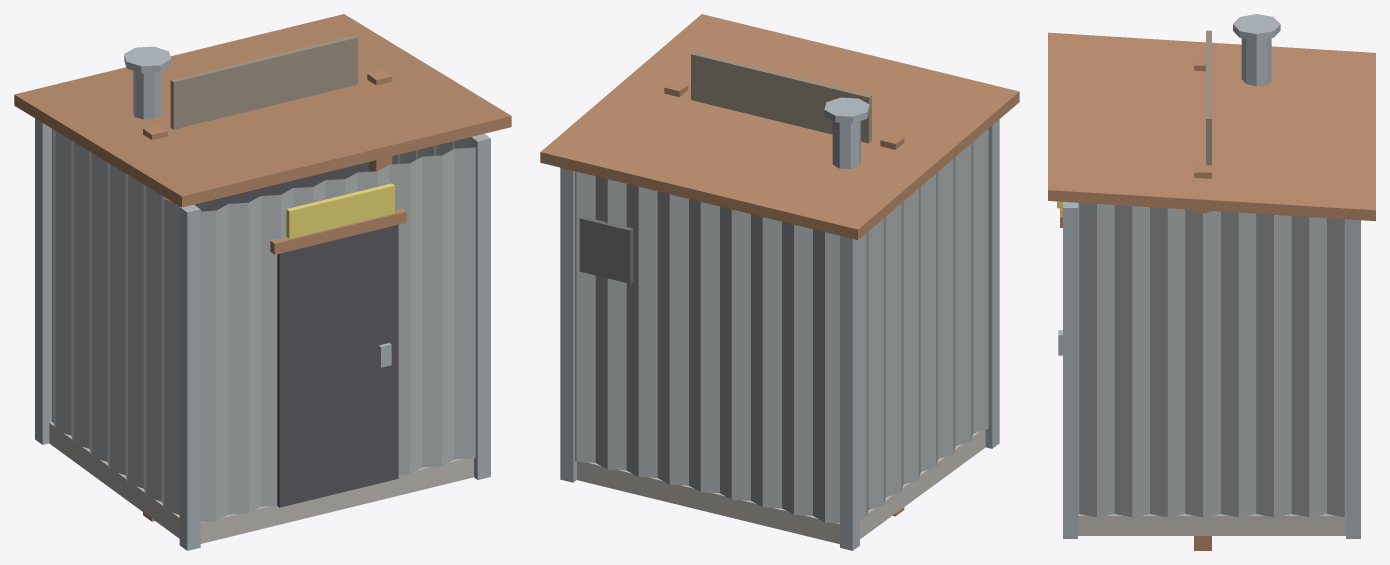
Rendered from gorge_dam.glb.
3 views of the same model, side by side, from view 1: azimuth 30°, elevation 25°; view 2: azimuth 150°, elevation 25°; view 3: azimuth 270°, elevation 25° (orthographic). The views are drawn at different scales.
Parts seen in each view (by area): view 1: gd_winch_mesh, gd_sluice_mesh; view 2: gd_winch_mesh, gd_sluice_mesh; view 3: gd_winch_mesh, gd_sluice_mesh.
Boxes of the visible parts, x1,y1,x2,y2 form: gd_winch_mesh: [14, 14, 511, 550]; gd_sluice_mesh: [143, 35, 392, 521]; gd_winch_mesh: [540, 14, 1019, 550]; gd_sluice_mesh: [664, 52, 904, 516]; gd_winch_mesh: [1048, 14, 1375, 538]; gd_sluice_mesh: [1194, 30, 1213, 550].
Size of the model in its own units: 2.5 by 3.15 by 2.2.
